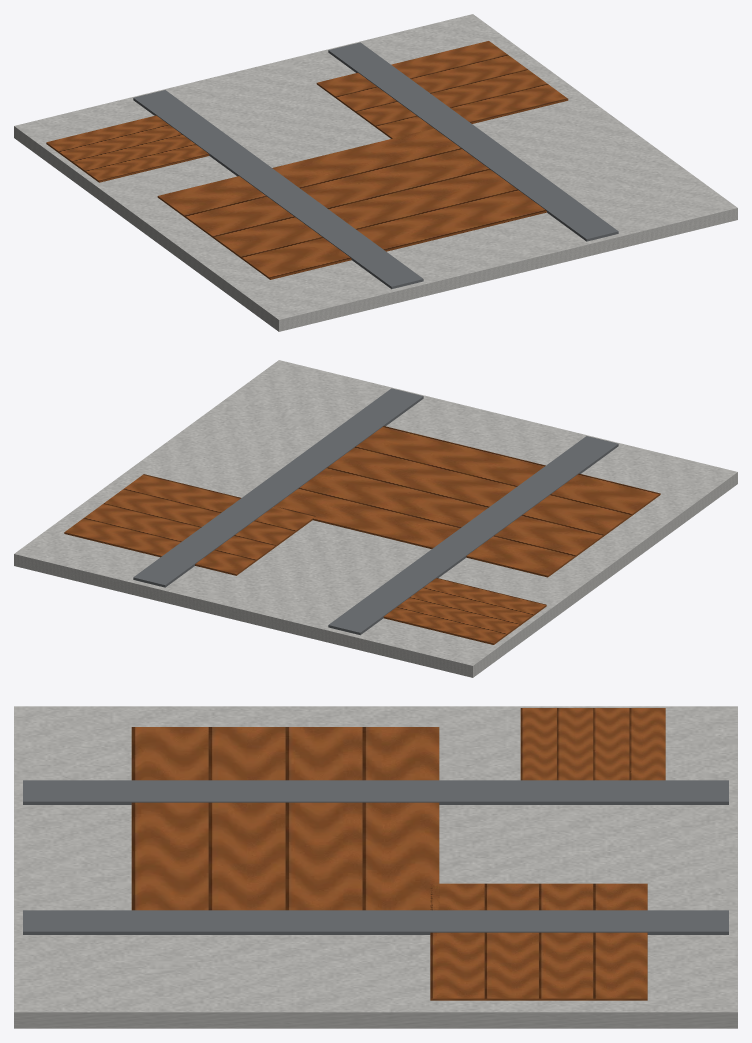
The model's file is recycling-and-waste-transfer-yard-recycling-and-waste--b3fb1f7c__34889.glb.
3 views of the same model, one above another, from view 1: azimuth 30°, elevation 25°; view 2: azimuth 150°, elevation 25°; view 3: azimuth 270°, elevation 25° (orthographic). The views are drawn at different scales.
Parts seen in each view (by area): view 1: recycling-and-waste-transfer-yard-mud-track-tile; view 2: recycling-and-waste-transfer-yard-mud-track-tile; view 3: recycling-and-waste-transfer-yard-mud-track-tile.
Part boxes in pixels (x1=…): recycling-and-waste-transfer-yard-mud-track-tile: x1=14, y1=14, x2=737, y2=331; recycling-and-waste-transfer-yard-mud-track-tile: x1=14, y1=360, x2=737, y2=677; recycling-and-waste-transfer-yard-mud-track-tile: x1=14, y1=706, x2=737, y2=1028.
Bounding box in the file's own units: 4 × 0.12 × 4.
Materials: 3 (2 with a texture image).
